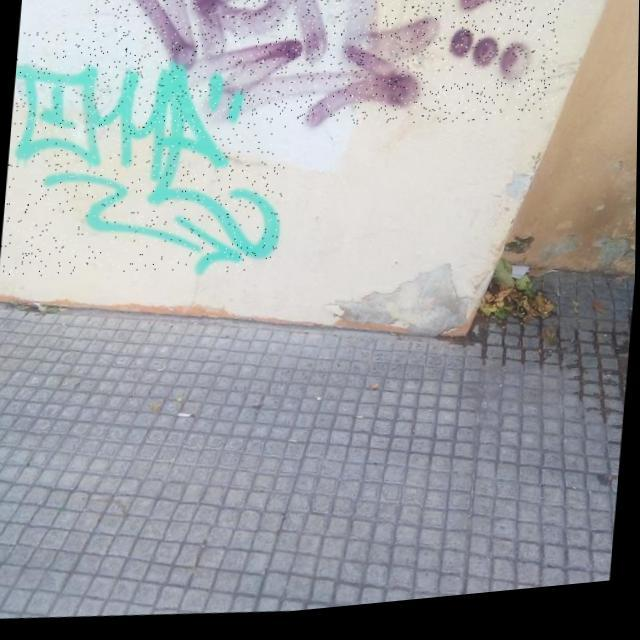-: (0, 11, 296, 298), (79, 0, 568, 166)
